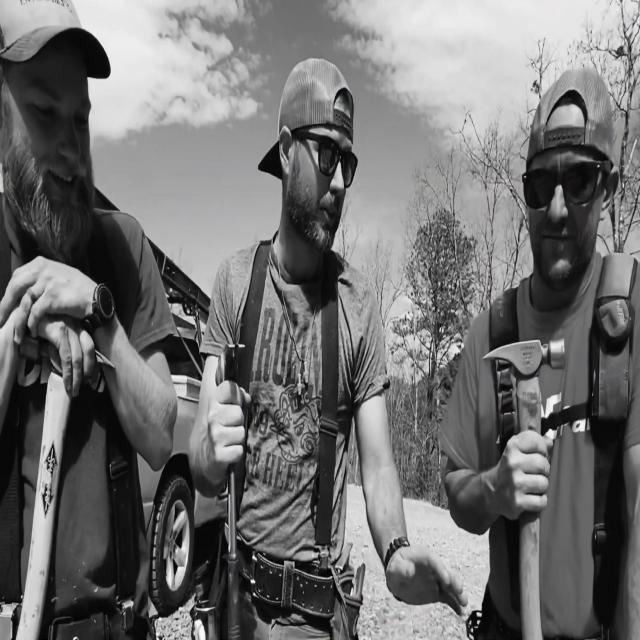hammer: (15, 335, 116, 640), (483, 334, 568, 640), (211, 338, 242, 640)
